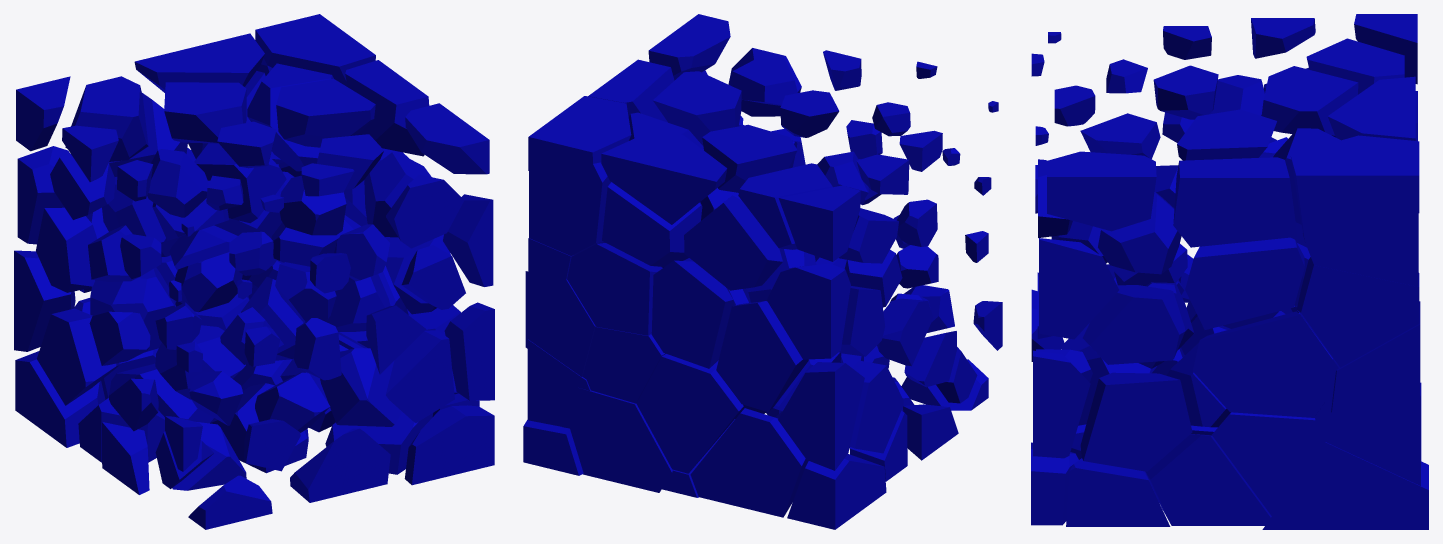
Rendered from Vernoid Cube.glb.
3 renders of one model, left to right at view 1: azimuth 30°, elevation 25°; view 2: azimuth 150°, elevation 25°; view 3: azimuth 270°, elevation 25°, orthographic. The views are drawn at different scales.
Visible parts, largest first — view 1: mesh_mm92, mesh_mm75, mesh_mm7, mesh_mm57, mesh_mm22, mesh_mm72, mesh_mm49, mesh_mm46, mesh_mm79, mesh_mm67, mesh_mm97, mesh_mm84 (+67 smaller); view 2: mesh_mm63, mesh_mm56, mesh_mm50, mesh_mm72, mesh_mm90, mesh_mm28, mesh_mm45, mesh_mm94, mesh_mm27, mesh_mm78, mesh_mm15, mesh_mm7 (+41 smaller); view 3: mesh_mm37, mesh_mm7, mesh_mm67, mesh_mm96, mesh_mm53, mesh_mm76, mesh_mm18, mesh_mm86, mesh_mm84, mesh_mm13, mesh_mm100, mesh_mm10 (+31 smaller).
Boxes of the visible parts, x1,y1,x2,y2 form: mesh_mm92: [404, 405, 494, 485]; mesh_mm75: [276, 78, 375, 147]; mesh_mm7: [255, 14, 375, 86]; mesh_mm57: [290, 428, 390, 502]; mesh_mm22: [386, 330, 454, 422]; mesh_mm72: [134, 33, 264, 92]; mesh_mm49: [37, 308, 119, 405]; mesh_mm46: [164, 82, 246, 143]; mesh_mm79: [320, 348, 401, 426]; mesh_mm67: [345, 60, 429, 156]; mesh_mm97: [15, 351, 105, 447]; mesh_mm84: [405, 103, 489, 174]; mesh_mm63: [690, 408, 808, 517]; mesh_mm56: [636, 354, 743, 473]; mesh_mm50: [562, 388, 672, 492]; mesh_mm72: [601, 134, 727, 224]; mesh_mm90: [651, 260, 734, 368]; mesh_mm28: [716, 301, 808, 412]; mesh_mm45: [778, 362, 864, 470]; mesh_mm94: [529, 162, 610, 255]; mesh_mm27: [567, 243, 662, 335]; mesh_mm78: [767, 263, 850, 359]; mesh_mm15: [684, 195, 782, 290]; mesh_mm7: [528, 96, 631, 170]; mesh_mm37: [1193, 311, 1338, 417]; mesh_mm7: [1290, 135, 1419, 242]; mesh_mm67: [1173, 157, 1297, 247]; mesh_mm96: [1262, 442, 1428, 529]; mesh_mm53: [1080, 372, 1192, 471]; mesh_mm76: [1185, 237, 1304, 329]; mesh_mm18: [1296, 257, 1419, 367]; mesh_mm86: [1145, 434, 1271, 525]; mesh_mm84: [1047, 151, 1156, 231]; mesh_mm13: [1212, 412, 1317, 515]; mesh_mm100: [1083, 285, 1185, 364]; mesh_mm10: [1039, 238, 1119, 339].
Bounding box in the file's own units: 50.36 × 50.53 × 51.3.
